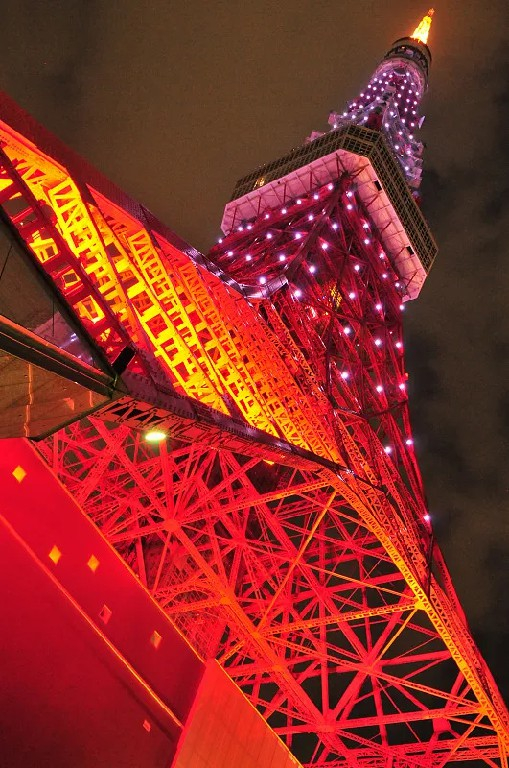Tokyo: (1, 5, 509, 768)
